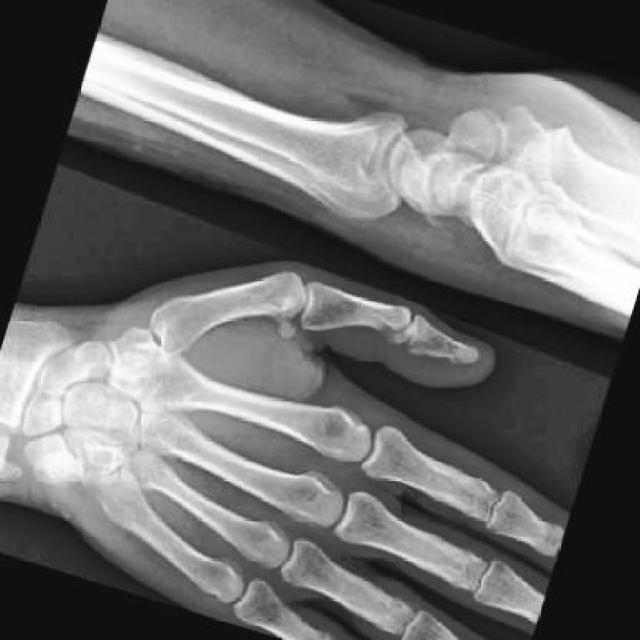Fracture: (25, 440, 85, 494), (412, 196, 468, 239)
